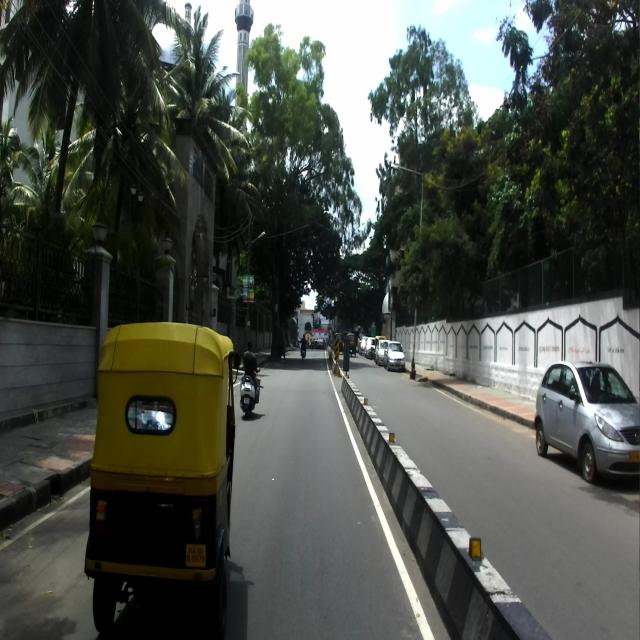autorickshaw: (85, 321, 241, 634)
car: (534, 360, 640, 484)
